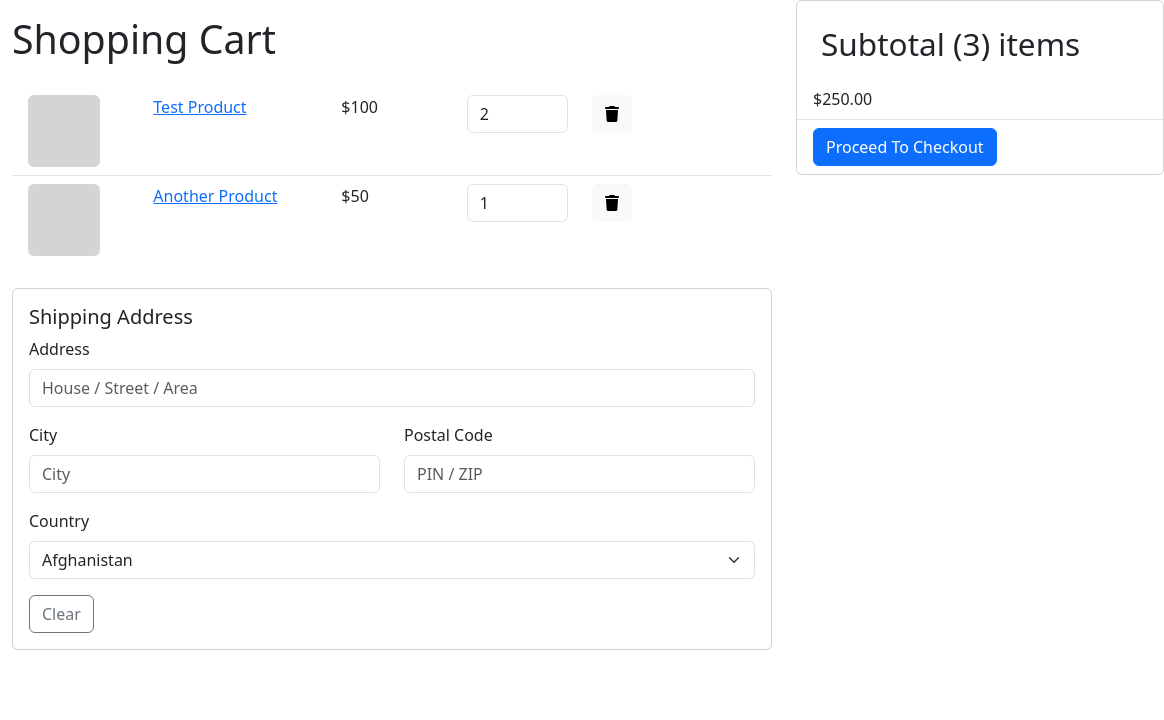
Test: CartScreen › shows warning if shipping address is incomplete
The width and height of the screenshot is (1164, 720).
Click the button "Proceed To Checkout".
click(905, 147)  # box [813,128,997,166]
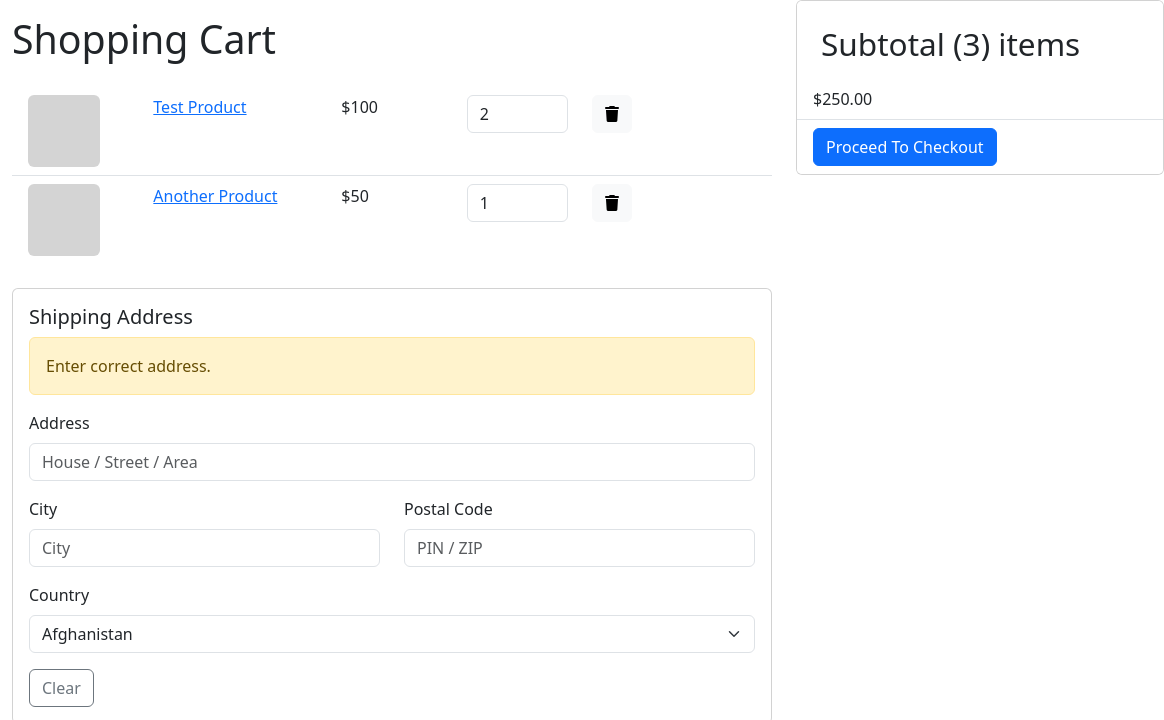
Check: the text "Enter correct address." is shown, box [29,337,755,395]
